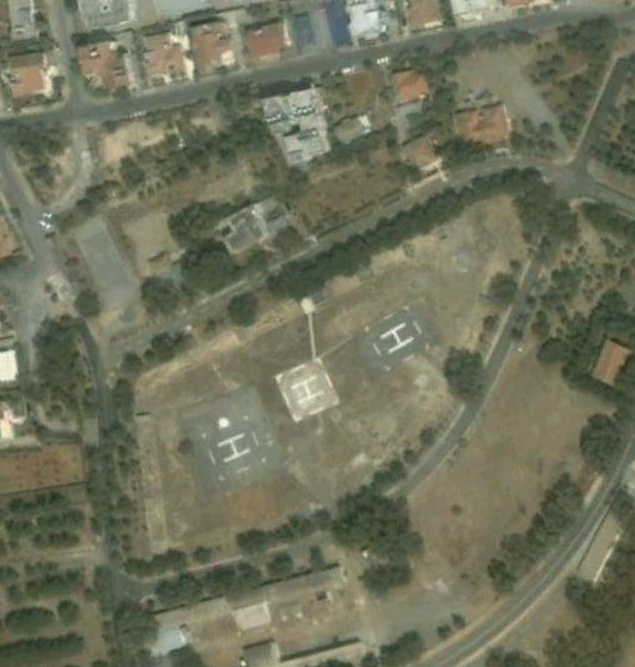heliport: (372, 320, 418, 356), (211, 432, 255, 465), (283, 374, 328, 404)
